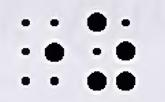dot_5: (21, 18, 65, 85)
salita: (87, 13, 136, 90)
